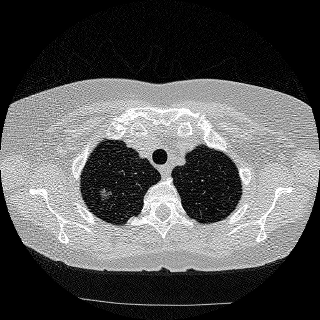nodule: (100, 190, 108, 198)
